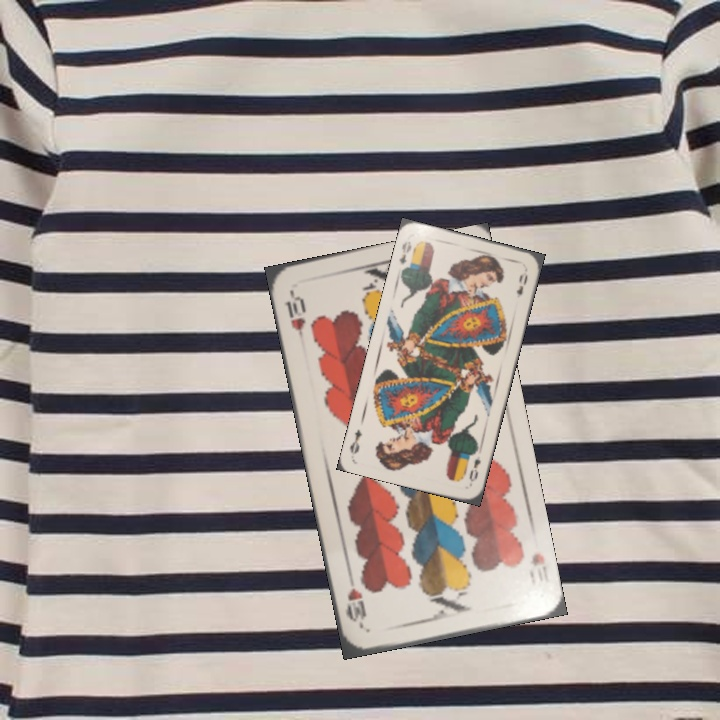EO: (465, 447, 484, 484), (395, 237, 414, 267)
H10: (282, 287, 308, 345), (525, 549, 548, 588)
